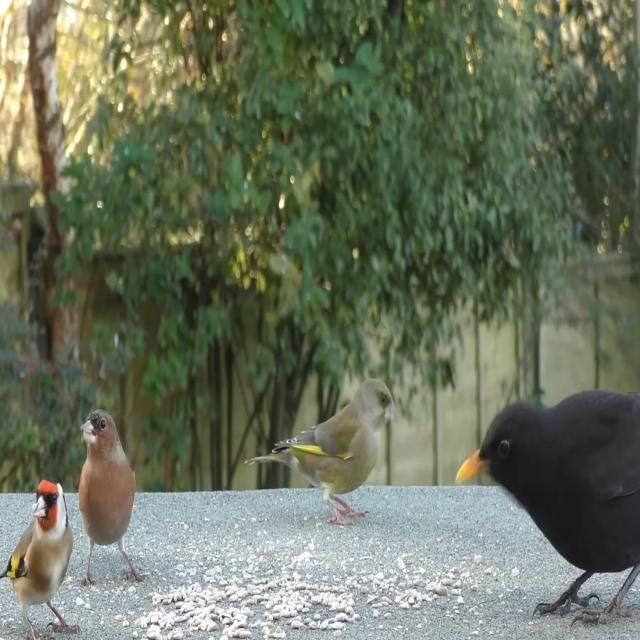beak: (455, 450, 485, 487), (80, 410, 99, 446), (29, 493, 50, 517), (386, 395, 398, 422)
bird: (447, 387, 640, 628), (245, 371, 397, 534), (1, 472, 75, 640), (74, 409, 144, 584)
